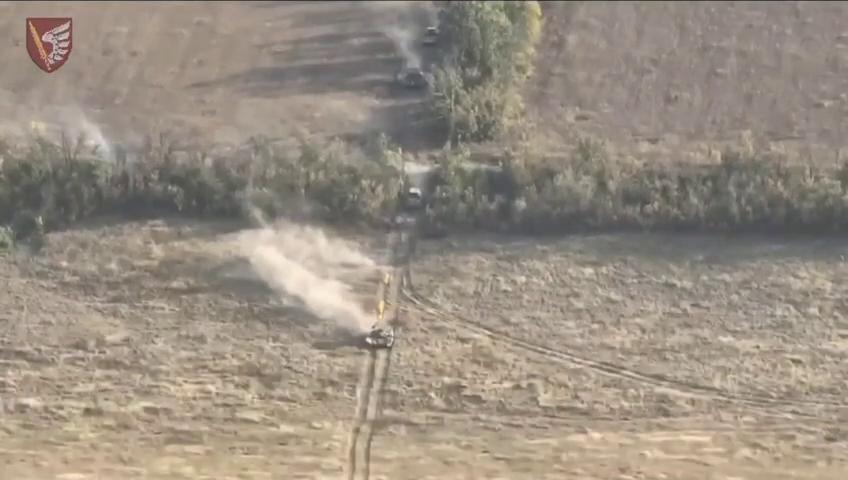tank: (401, 60, 431, 95), (367, 318, 396, 350), (419, 16, 441, 50), (403, 186, 425, 213)
